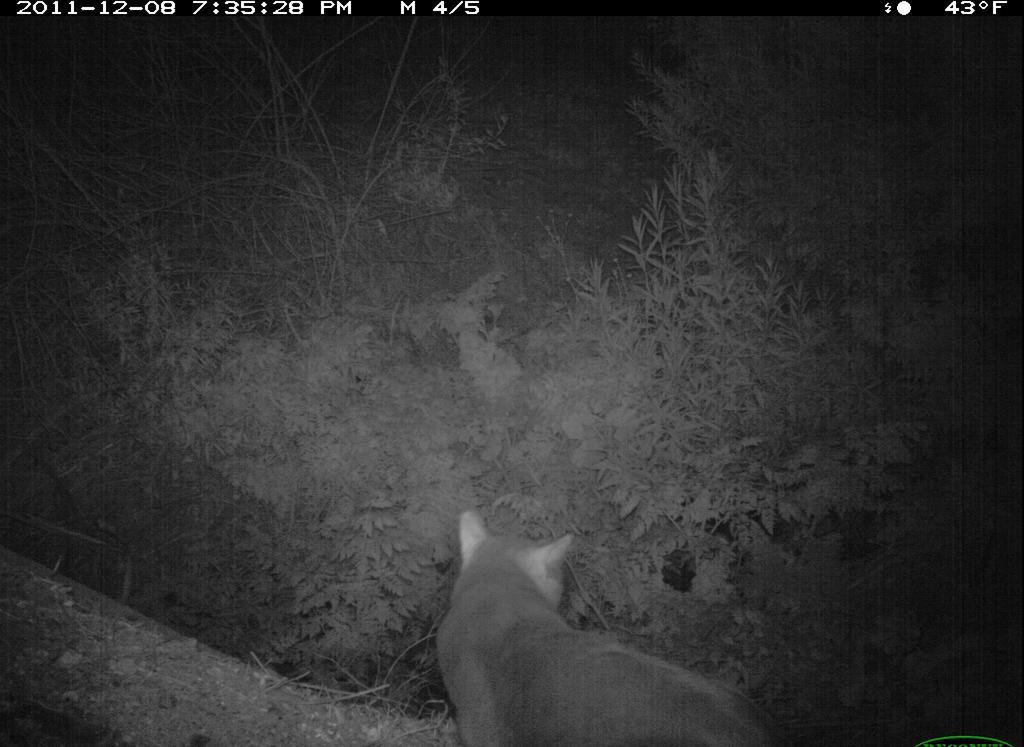cat: (417, 489, 795, 742)
